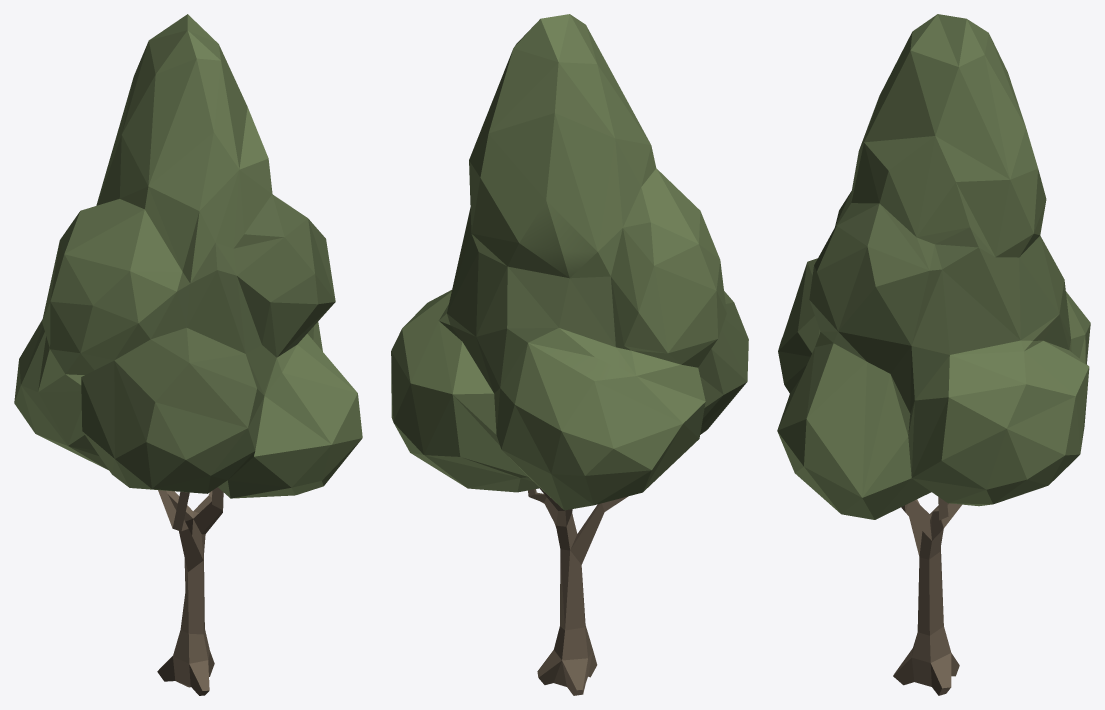
Rendered from Env_Tree_03.glb.
3 views of the same model, side by side, from view 1: azimuth 30°, elevation 25°; view 2: azimuth 150°, elevation 25°; view 3: azimuth 270°, elevation 25° (orthographic). The views are drawn at different scales.
Parts seen in each view (by area): view 1: SM_Gen_Env_Tree_03; view 2: SM_Gen_Env_Tree_03; view 3: SM_Gen_Env_Tree_03.
Boxes of the visible parts, x1,y1,x2,y2 form: SM_Gen_Env_Tree_03: [14, 14, 362, 695]; SM_Gen_Env_Tree_03: [391, 14, 748, 695]; SM_Gen_Env_Tree_03: [777, 14, 1090, 695].
Size of the model in its own units: 2.74 by 6.15 by 2.59.
Materials: 1 (1 with a texture image).
